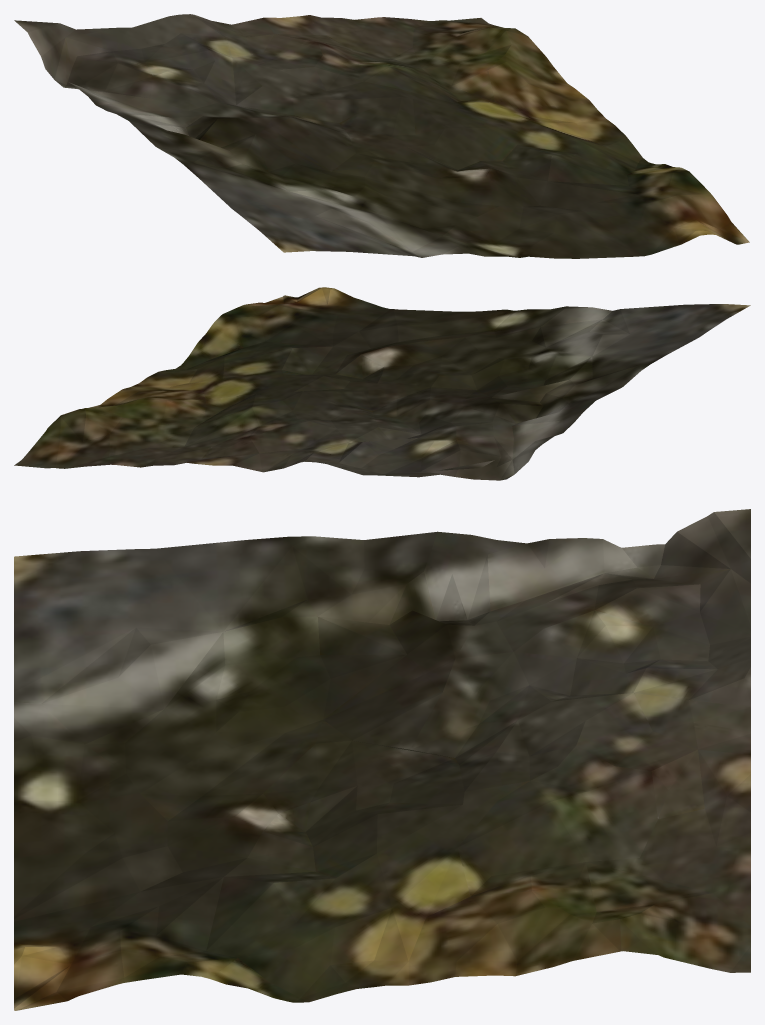
The picture shows the model from 3 angles, top to bottom: view 1: azimuth 30°, elevation 25°; view 2: azimuth 150°, elevation 25°; view 3: azimuth 270°, elevation 25°; orthographic projection. The views are drawn at different scales.
Size of the model in its own units: 0.8373 by 0.2388 by 0.8374.
3 materials, 3 textured.
